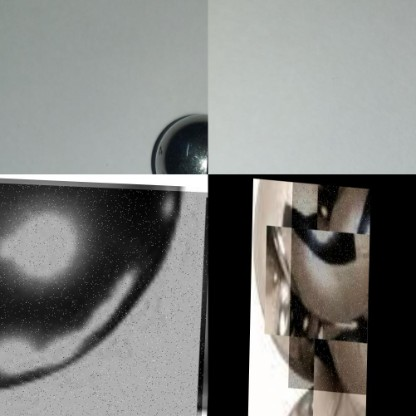ironball: (0, 179, 208, 415), (288, 180, 370, 391), (149, 106, 206, 172)
